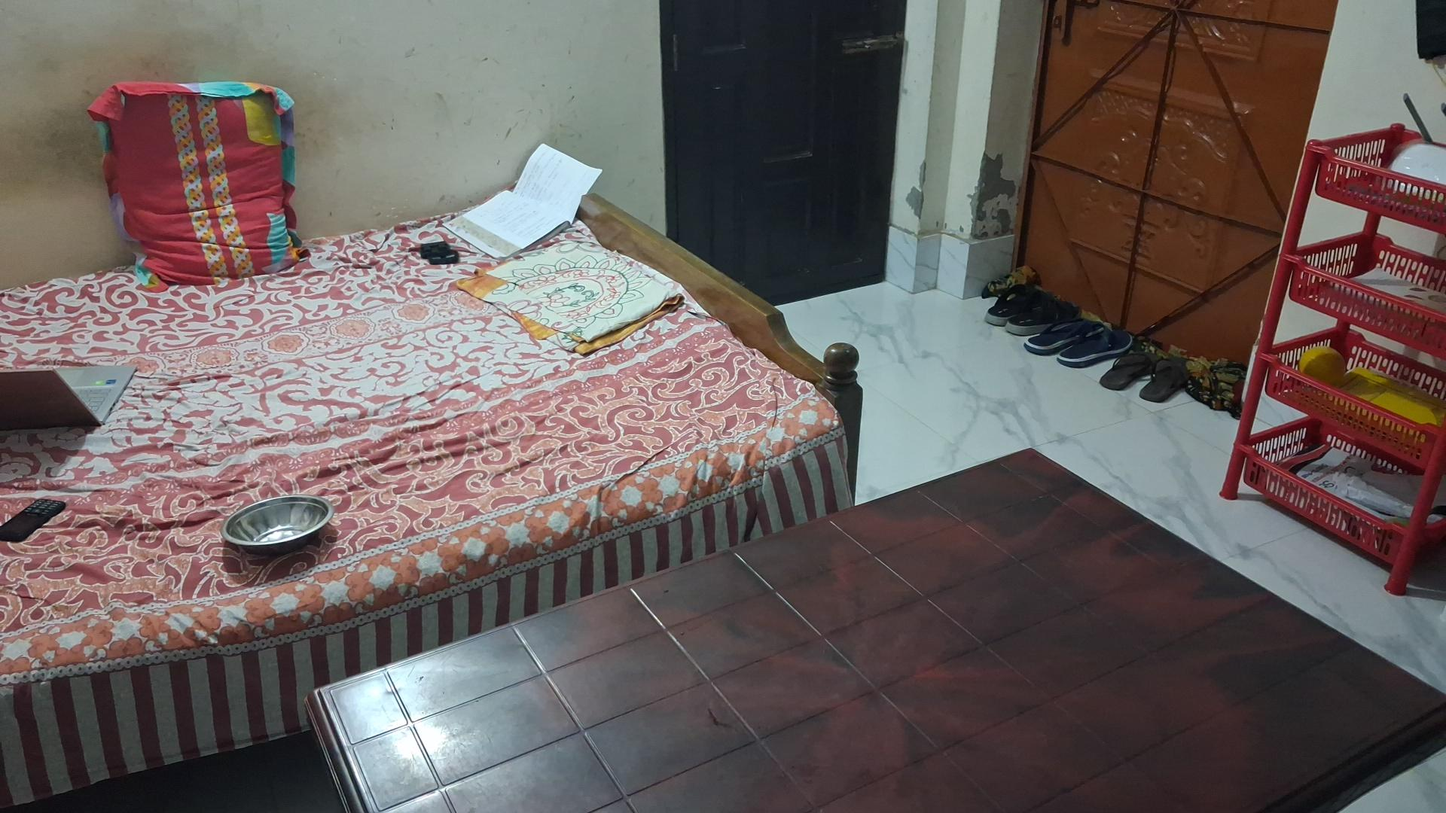Bowl: (218, 494, 336, 552)
Door: (1025, 2, 1295, 354), (656, 10, 912, 313)
Footwear: (981, 282, 1078, 330), (1106, 346, 1189, 399), (1026, 320, 1131, 360)
Laptop: (0, 356, 121, 425)
Notebook: (431, 146, 605, 256)
Phone: (2, 490, 77, 547)
Pillow: (89, 82, 325, 280)
Rack: (1222, 126, 1446, 579)
Table: (312, 449, 1446, 813)
